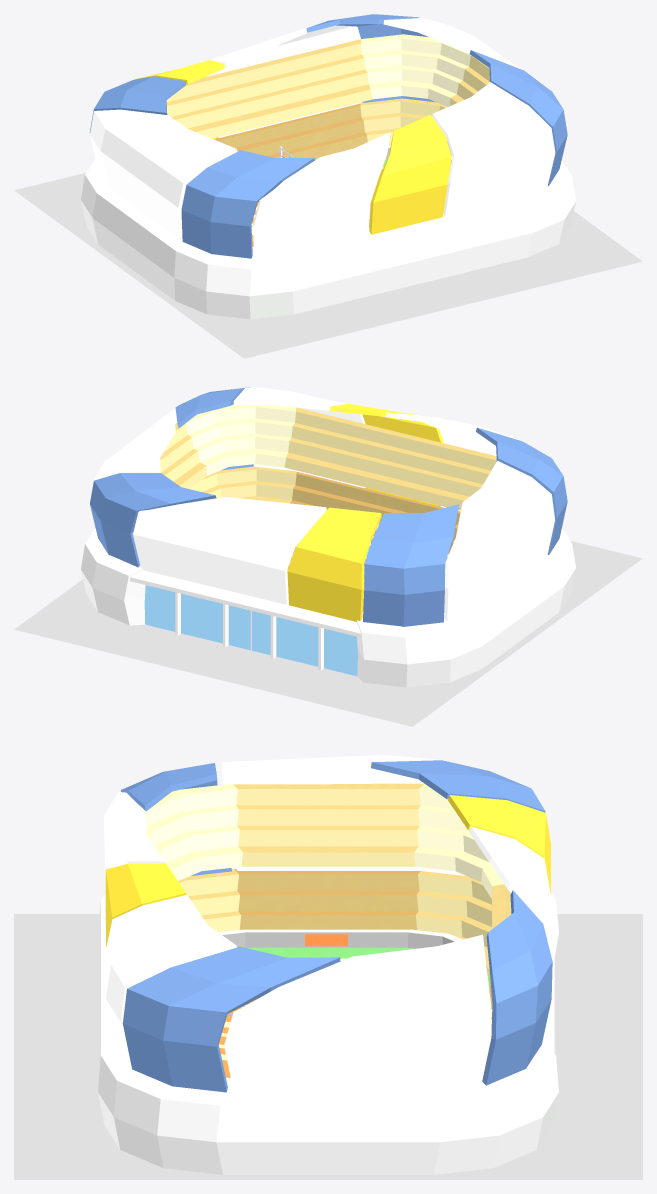
File: stadiums.005.glb
3 views of the same model, one above another, from view 1: azimuth 30°, elevation 25°; view 2: azimuth 150°, elevation 25°; view 3: azimuth 270°, elevation 25° (orthographic). The views are drawn at different scales.
Visible parts, largest first — view 1: stadiums.005(Clone); view 2: stadiums.005(Clone); view 3: stadiums.005(Clone).
Boxes of the visible parts, x1,y1,x2,y2 form: stadiums.005(Clone): [14, 14, 642, 358]; stadiums.005(Clone): [14, 387, 642, 726]; stadiums.005(Clone): [14, 755, 642, 1179].
Bounding box in the file's own units: 16 × 5.45 × 16.
Materials: 1 (1 with a texture image).
